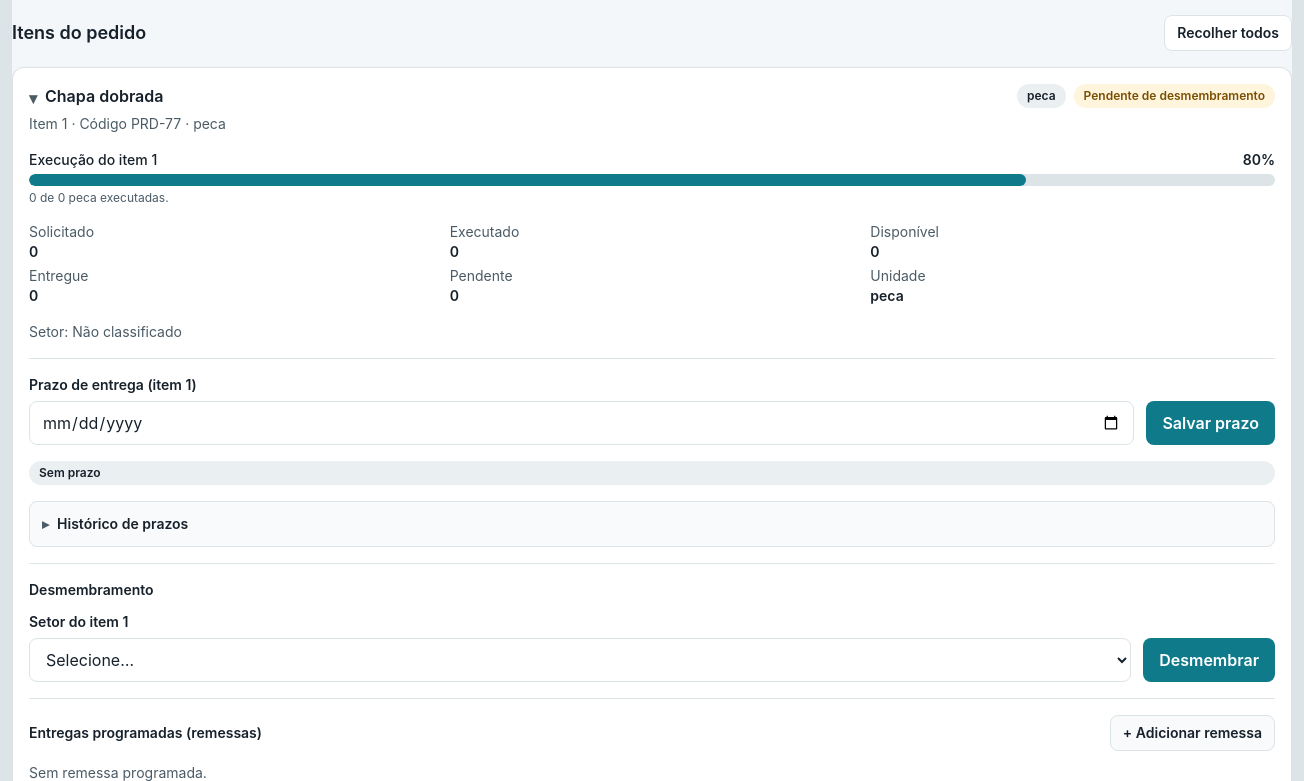
PedidoGerentePage › após 409, recarrega e mostra o setor persistido (LAC-05)
(page scrolled)
Select "Corte e Dobra" in the dropdown labelled "Setor do item 1" at (580, 660), box [29,638,1131,682]
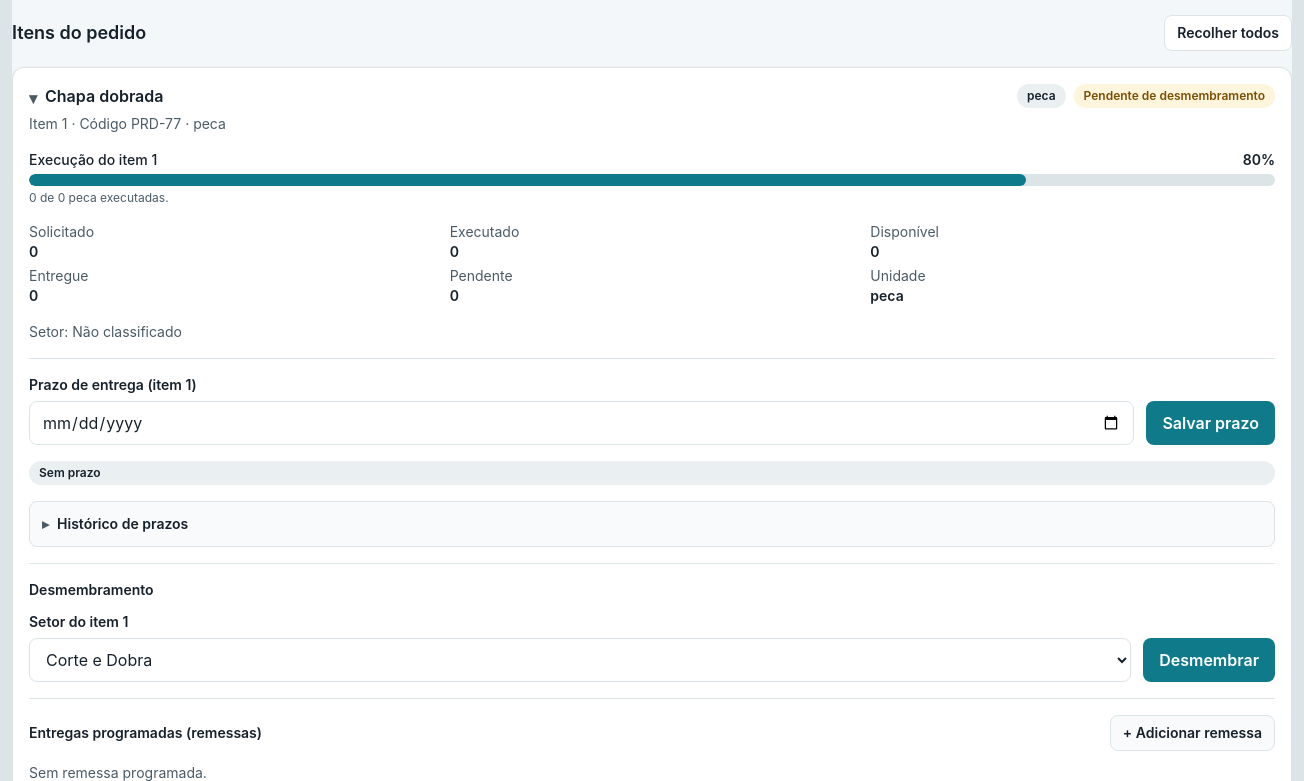
Click the button with aria-label "Classificar item 1" at (1209, 660), box [1143,638,1275,682]
(page scrolled)
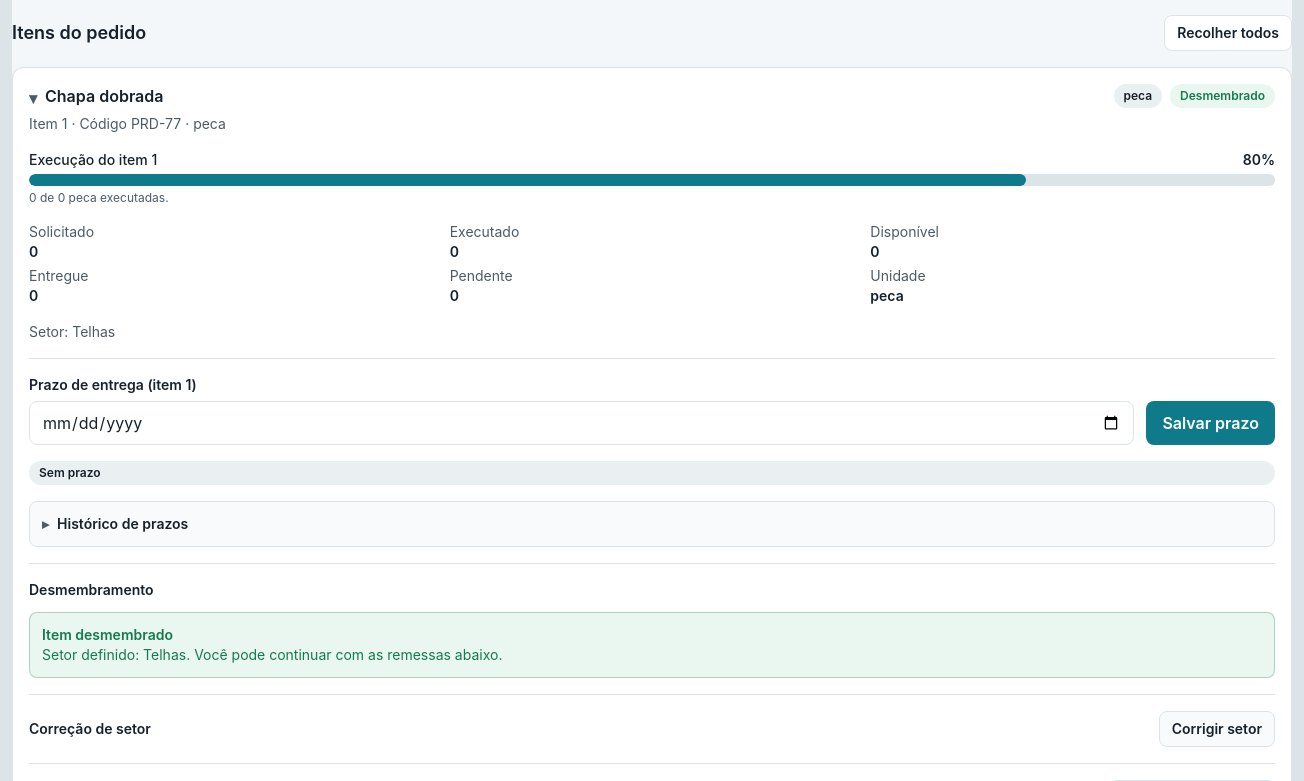
Now the text "Setor definido: Telhas" is shown, box [42,645,502,665]
